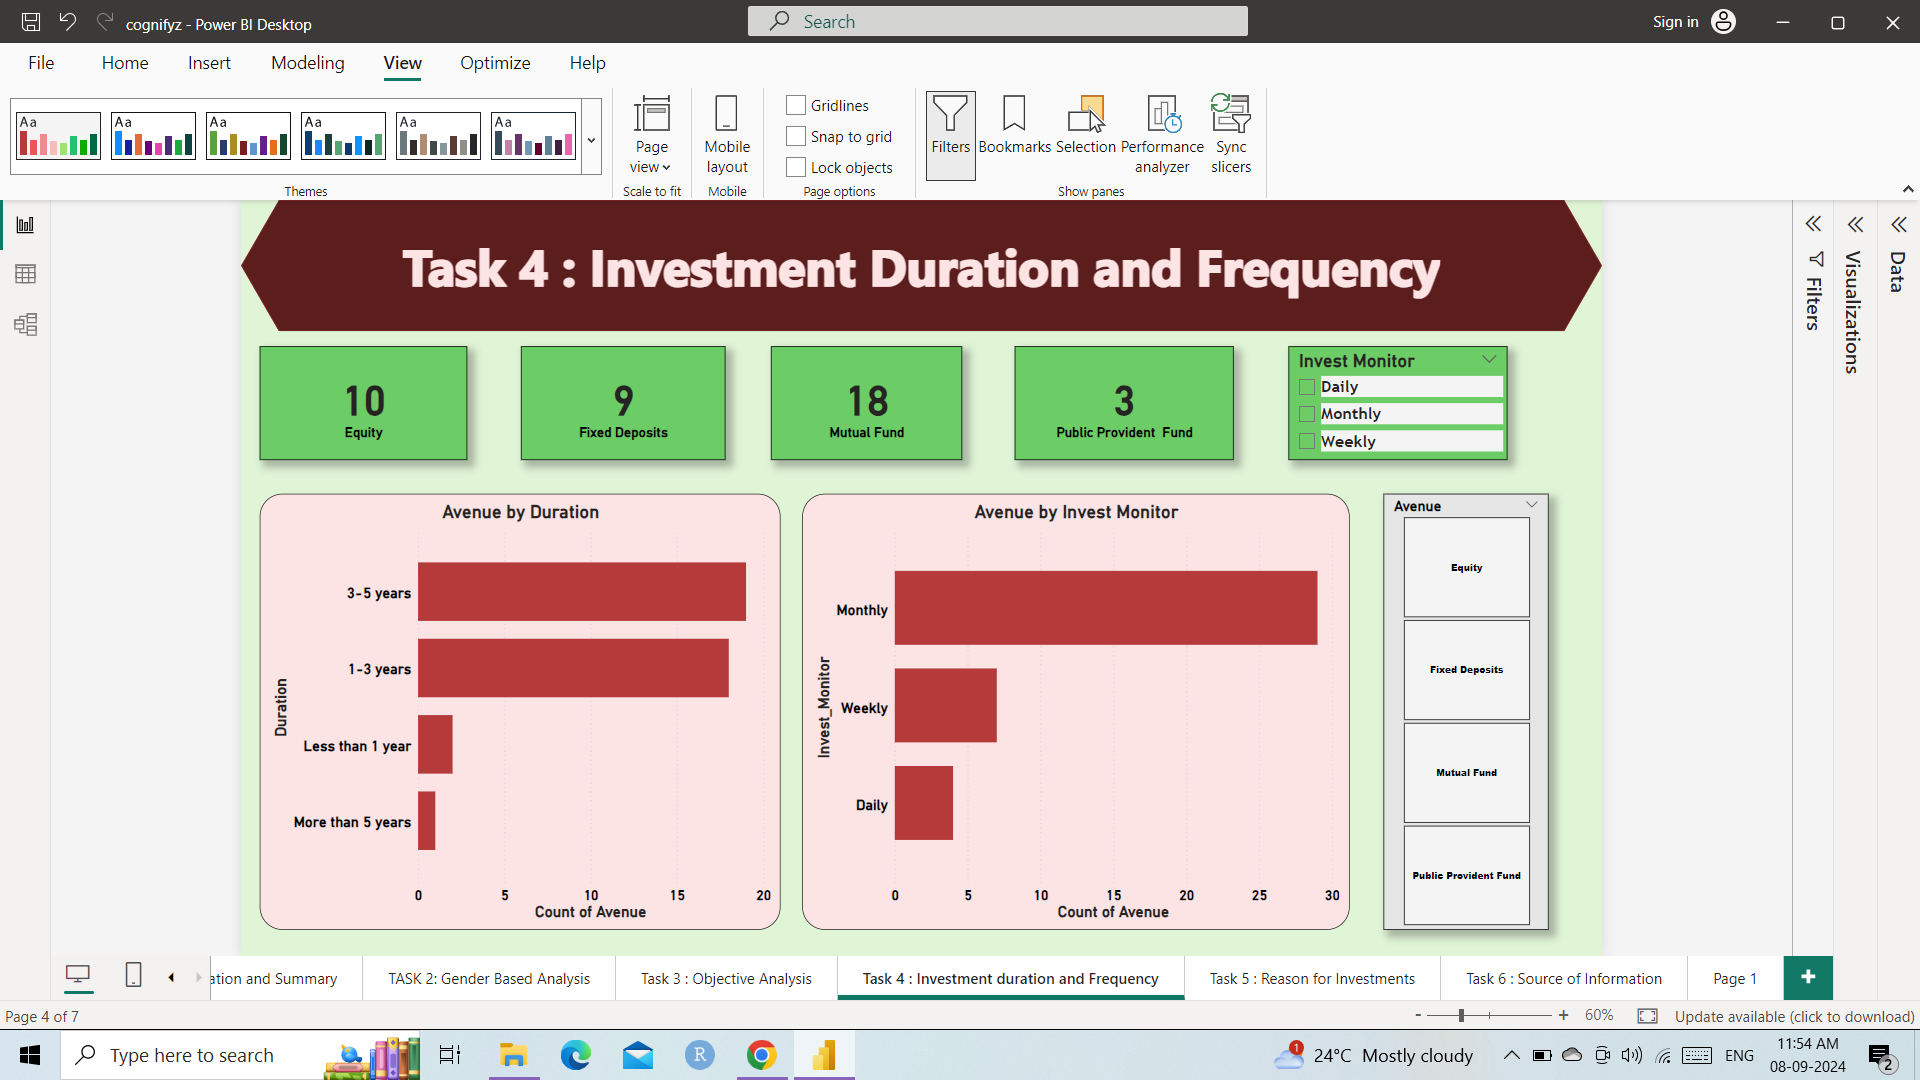

The dashboard page shown, as its layout file describes it:
{"tool":"powerbi","page":{"name":"Task 4 : Investment  duration and Frequency","canvas":[1800,1000],"ordinal":3},"visuals":[{"type":"shape","box":[0,0,1800.4,173.7],"z":0},{"type":"clusteredBarChart","title":" Avenue by Duration","fields":{"Y":["Data_set 2.Avenue"],"Category":["Data_set 2.Duration"]},"box":[25.1,387.9,688.9,577],"z":1000},{"type":"clusteredBarChart","title":" Avenue by Invest Monitor","fields":{"Y":["Data_set 2.Avenue"],"Category":["Data_set 2.Invest_Monitor"]},"box":[742.9,387.9,723.6,577],"z":2000},{"type":"slicer","fields":{"Values":["Data_set 2.Avenue"]},"box":[1510.9,387.9,218.1,577],"z":3000},{"type":"card","fields":{"Values":["Data_set 2.Equity"]},"box":[25.1,193,274,150.5],"z":4000},{"type":"card","fields":{"Values":["Data_set 2.Fixed Deposits"]},"box":[370.5,193,270.2,150.5],"z":5000},{"type":"card","fields":{"Values":["Data_set 2.Mutual Fund"]},"box":[700.5,193,252.8,150.5],"z":6000},{"type":"card","fields":{"Values":["Data_set 2.Public Provident  Fund"]},"box":[1022.7,193,289.5,150.5],"z":7000},{"type":"slicer","fields":{"Values":["Data_set 2.Invest_Monitor"]},"box":[1385.5,193,289.5,150.5],"z":8000}]}

Visuals, with their boxes on the page's 1800x1000 design canvas (x1, y1, x2, y2). These are canvas units, not pixel positions in the 1920x1080 screenshot, which may show the page scaled, cropped or inside an application window:
shape: <region>0, 0, 1800, 174</region>
" Avenue by Duration" clusteredBarChart: <region>25, 388, 714, 965</region>
" Avenue by Invest Monitor" clusteredBarChart: <region>743, 388, 1466, 965</region>
slicer - Data_set 2.Avenue: <region>1511, 388, 1729, 965</region>
card - Data_set 2.Equity: <region>25, 193, 299, 344</region>
card - Data_set 2.Fixed Deposits: <region>370, 193, 641, 344</region>
card - Data_set 2.Mutual Fund: <region>700, 193, 953, 344</region>
card - Data_set 2.Public Provident  Fund: <region>1023, 193, 1312, 344</region>
slicer - Data_set 2.Invest_Monitor: <region>1386, 193, 1675, 344</region>
